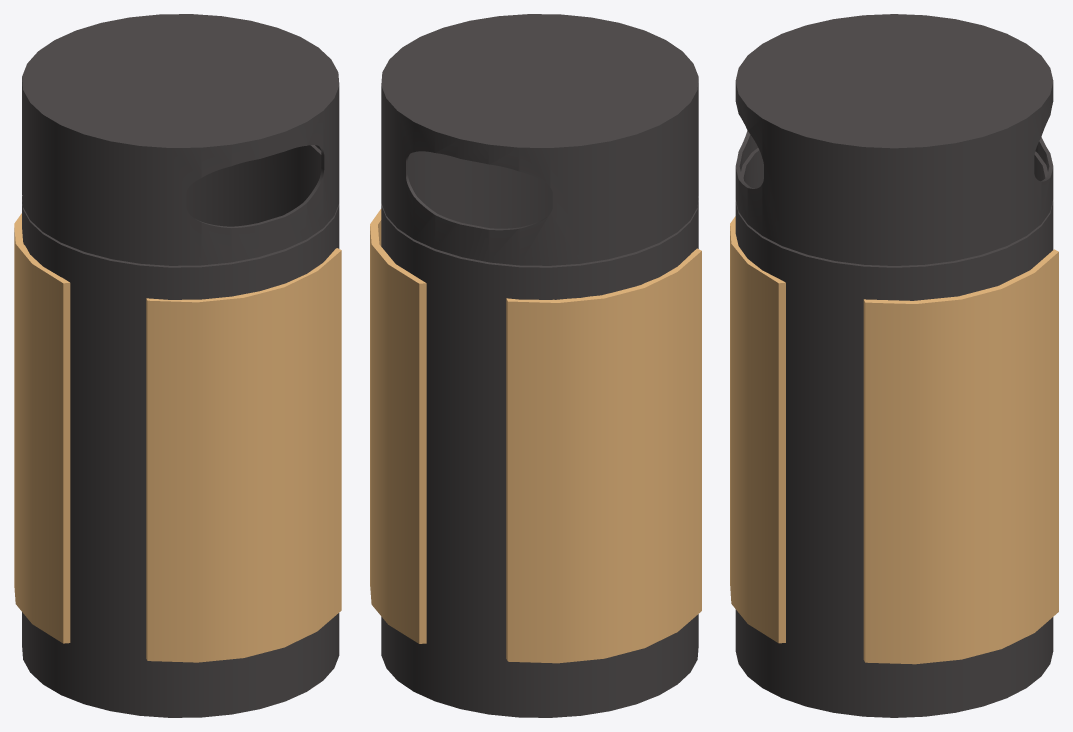
The model's file is Bin(1).fbx.
3 views of the same model, side by side, from view 1: azimuth 30°, elevation 25°; view 2: azimuth 150°, elevation 25°; view 3: azimuth 270°, elevation 25° (orthographic).
Parts seen in each view (by area): view 1: Cylinder.002, Cylinder, Cylinder.004, Cylinder.001; view 2: Cylinder.001, Cylinder, Cylinder.004, Cylinder.003; view 3: Cylinder.003, Cylinder.004, Cylinder, Cylinder.002.
Part boxes in pixels (x1,y1,x2,y2): Cylinder.002: (146,248,341,662); Cylinder: (22,145,339,717); Cylinder.004: (22,14,339,265); Cylinder.001: (14,213,70,643); Cylinder.001: (506,248,701,663); Cylinder: (381,151,698,717); Cylinder.004: (381,14,698,265); Cylinder.003: (370,209,426,643); Cylinder.003: (863,249,1058,664); Cylinder.004: (735,14,1053,265); Cylinder: (735,148,1053,717); Cylinder.002: (730,216,785,643).
Size of the model in its own units: 83.94 by 158 by 82.79.
